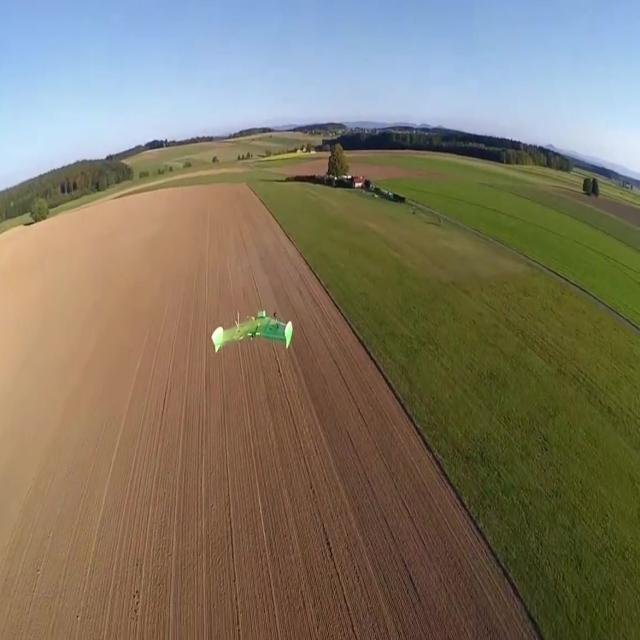iha: (242, 303, 262, 348)
